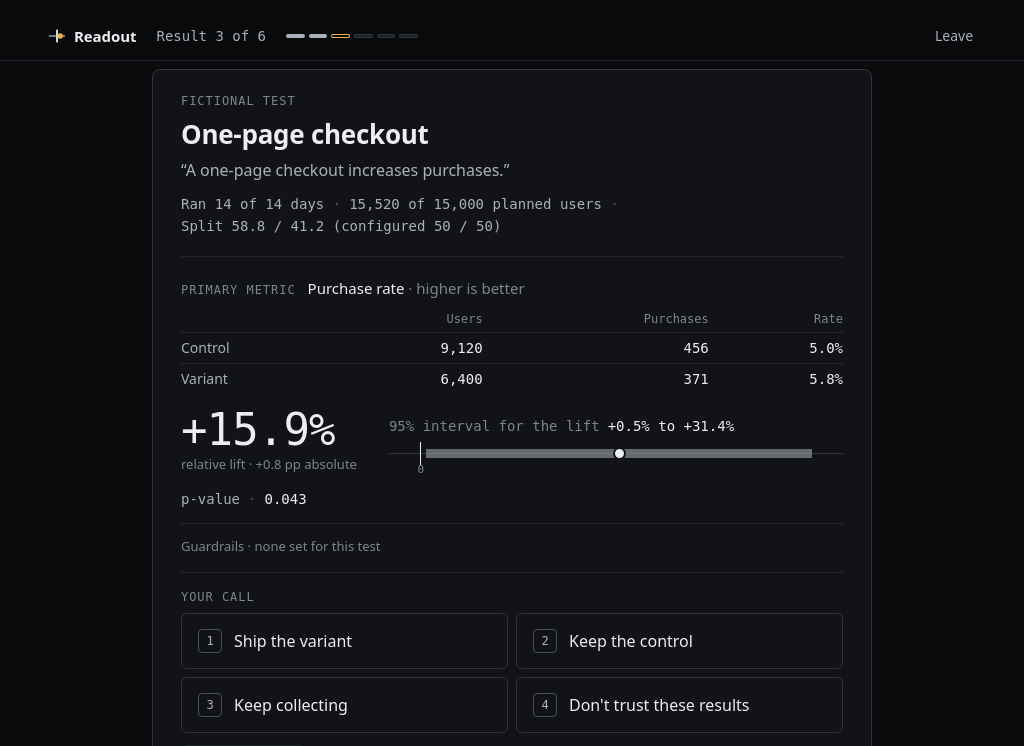
Test: Challenge › Leave asks inline; Esc closes it; Leave keeps the attempt
Later steps or results of the test are not shown.
Click the button "Leave": coordinates (954, 36) [932,14,976,58]
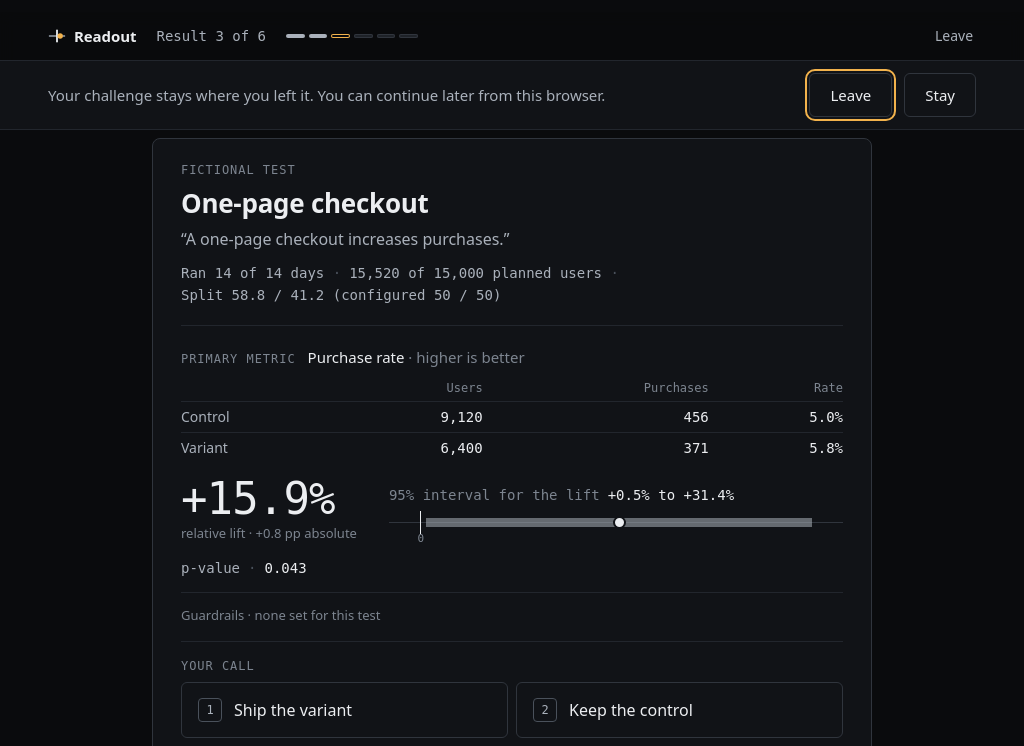
Expected: the text "Your challenge stays where you left it" is shown, [48,85,605,105]
Press Escape
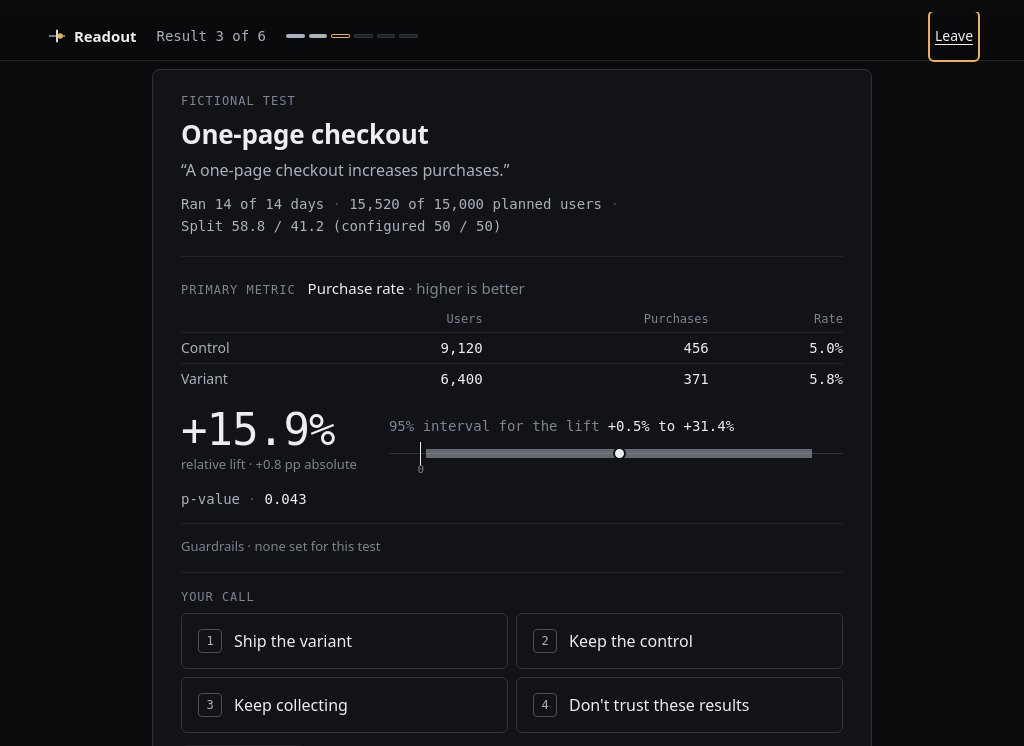
Expected: the text "Your challenge stays where you left it" is gone
